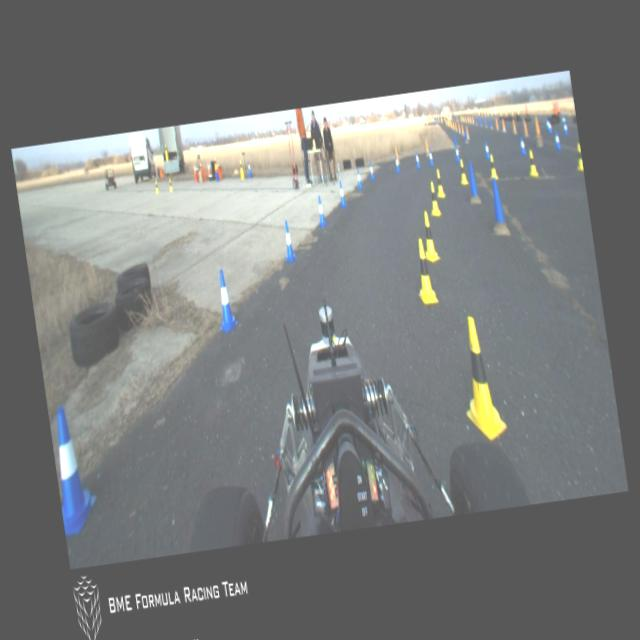blue_cone: (48, 403, 102, 536), (212, 267, 238, 331), (280, 219, 297, 262), (313, 194, 328, 228), (338, 182, 348, 206), (354, 168, 363, 190), (453, 142, 462, 164), (518, 133, 527, 155), (484, 139, 492, 160), (554, 130, 562, 151), (426, 148, 435, 166), (368, 162, 376, 181), (414, 151, 422, 170), (394, 155, 401, 175), (246, 160, 252, 174), (564, 123, 568, 136), (548, 122, 552, 133), (546, 119, 550, 129), (562, 114, 566, 122)
orange_cone: (206, 160, 211, 174), (192, 162, 197, 173), (198, 160, 202, 170)
unknown_cone: (487, 176, 511, 238), (465, 162, 482, 206), (532, 115, 542, 138), (522, 119, 530, 138), (394, 144, 401, 164), (423, 136, 430, 156), (462, 125, 468, 144), (511, 119, 518, 135), (464, 123, 470, 140), (500, 118, 507, 132), (488, 116, 494, 131), (494, 116, 500, 130), (460, 124, 466, 137), (483, 116, 488, 129), (458, 121, 462, 134), (454, 120, 458, 132), (474, 116, 478, 128), (479, 116, 483, 127), (471, 115, 475, 126), (464, 114, 468, 124), (452, 120, 455, 130), (469, 115, 472, 124), (467, 116, 470, 124), (462, 116, 464, 122)
yellow_cone: (454, 314, 508, 442), (409, 236, 440, 306), (417, 210, 441, 264), (426, 181, 442, 216), (526, 146, 540, 183), (434, 168, 446, 198), (488, 152, 499, 182), (457, 158, 469, 184), (574, 145, 584, 169), (154, 179, 160, 195), (168, 178, 174, 194), (212, 156, 218, 169), (239, 160, 244, 172), (164, 143, 168, 153)
